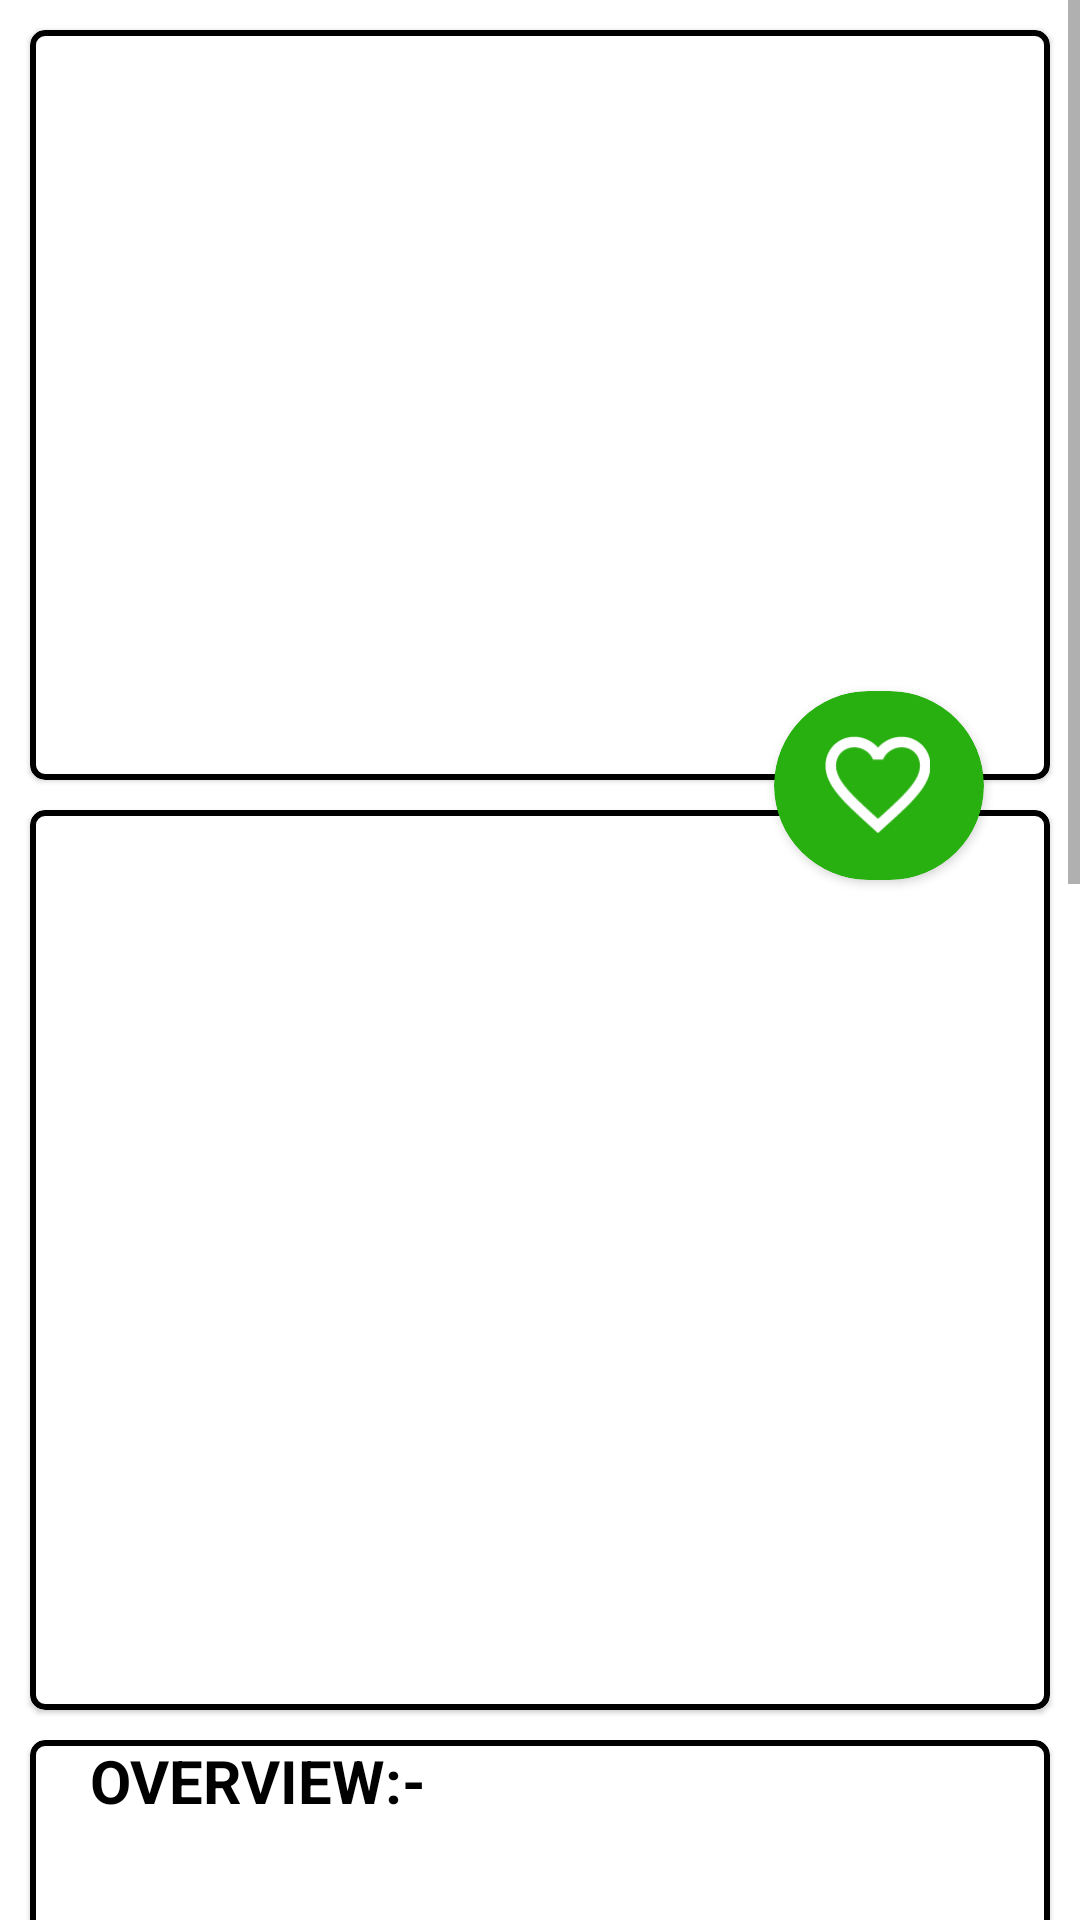

Where icons sit on this 1080px x 1920px app screen, as (x1, y1, x2, y2):
favorite border: (825, 736, 930, 833)
